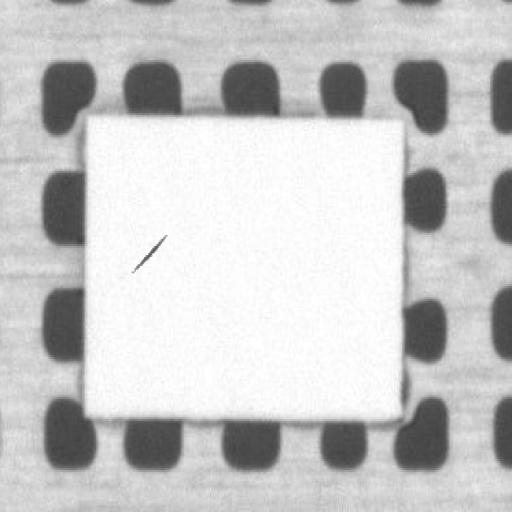DIE_INK: (168, 170, 230, 207)
